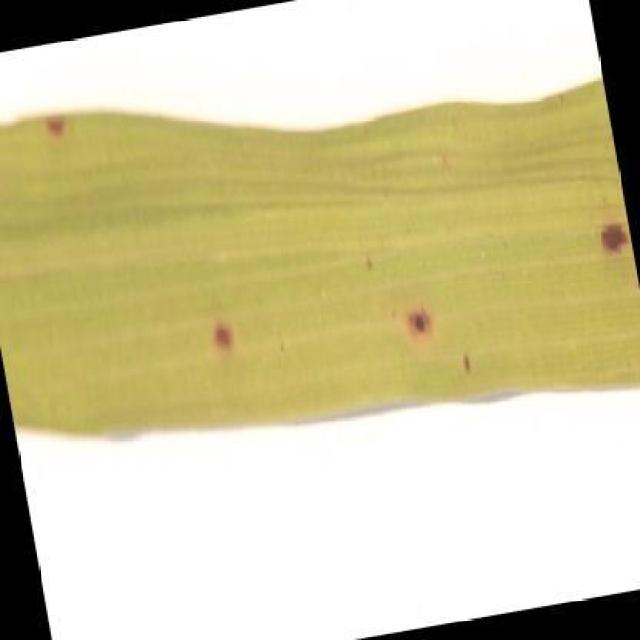Leaf_Blast: (196, 277, 250, 372), (388, 269, 442, 357), (588, 194, 635, 272), (454, 316, 486, 392)
